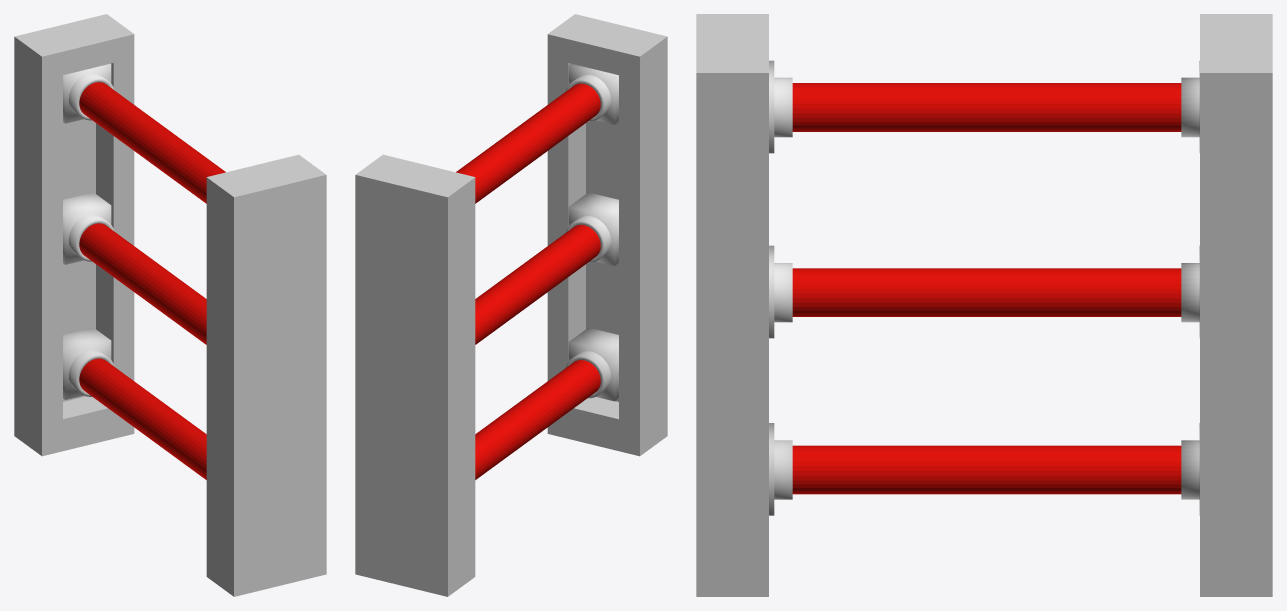
File: Laser.fbx
3 renders of one model, left to right at view 1: azimuth 30°, elevation 25°; view 2: azimuth 150°, elevation 25°; view 3: azimuth 270°, elevation 25°, orthographic. The views are drawn at different scales.
Visible parts, largest first — view 1: Cube.002, Cube.003, Cylinder.003, Cylinder.002, Cylinder.001, Cube.005, Cube, Cube.007; view 2: Cube.003, Cube.002, Cylinder.003, Cylinder.002, Cylinder.001, Cube.001, Cube.004, Cube.006; view 3: Cube.003, Cube.002, Cylinder.001, Cylinder.002, Cylinder.003, Cube.006, Cube.004, Cube.001, Cube.007, Cube, Cube.005.
Boxes of the visible parts, bbox=[...] form: Cube.002: bbox=[206, 154, 326, 596]; Cube.003: bbox=[14, 14, 134, 456]; Cylinder.003: bbox=[79, 82, 225, 203]; Cylinder.002: bbox=[79, 223, 206, 344]; Cylinder.001: bbox=[79, 358, 206, 479]; Cube.005: bbox=[63, 192, 114, 264]; Cube: bbox=[63, 327, 114, 399]; Cube.007: bbox=[63, 63, 114, 123]; Cube.003: bbox=[355, 154, 475, 596]; Cube.002: bbox=[547, 14, 667, 456]; Cylinder.003: bbox=[456, 83, 600, 203]; Cylinder.002: bbox=[475, 224, 600, 344]; Cylinder.001: bbox=[475, 360, 600, 479]; Cube.001: bbox=[565, 327, 618, 401]; Cube.004: bbox=[565, 192, 618, 266]; Cube.006: bbox=[565, 63, 618, 124]; Cube.003: bbox=[1200, 14, 1272, 596]; Cube.002: bbox=[696, 14, 768, 596]; Cylinder.001: bbox=[792, 445, 1181, 494]; Cylinder.002: bbox=[792, 268, 1181, 316]; Cylinder.003: bbox=[792, 83, 1181, 131]; Cube.006: bbox=[769, 60, 792, 153]; Cube.004: bbox=[769, 245, 792, 338]; Cube.001: bbox=[769, 423, 792, 515]; Cube.007: bbox=[1181, 61, 1199, 152]; Cube: bbox=[1181, 423, 1199, 515]; Cube.005: bbox=[1181, 246, 1199, 337].
Bounding box in the file's own units: 165 × 680 × 678.
